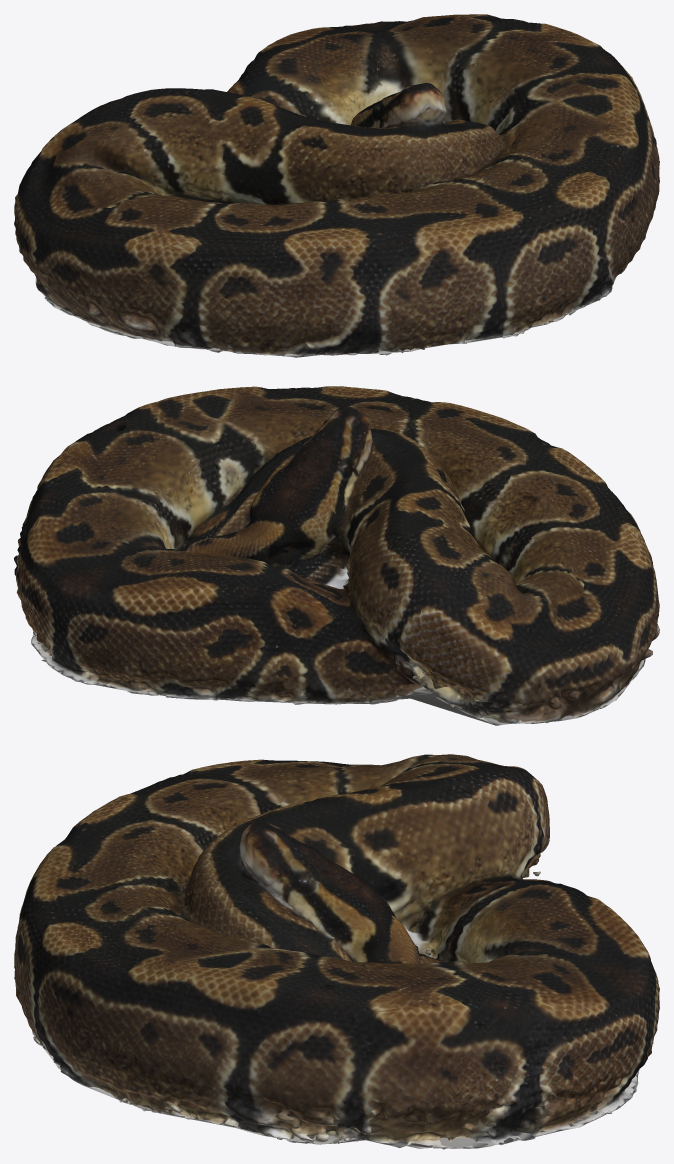
The model's file is ball_python__piton_bola.glb.
3 views of the same model, one above another, from view 1: azimuth 30°, elevation 25°; view 2: azimuth 150°, elevation 25°; view 3: azimuth 270°, elevation 25° (orthographic). The views are drawn at different scales.
Parts seen in each view (by area): view 1: pitonbolasinhole_0; view 2: pitonbolasinhole_0; view 3: pitonbolasinhole_0.
Part boxes in pixels (box(x1,y1,x2,y2)): pitonbolasinhole_0: box(14, 14, 659, 357); pitonbolasinhole_0: box(14, 386, 659, 725); pitonbolasinhole_0: box(14, 754, 659, 1149).
Bounding box in the file's own units: 0.2489 × 0.0746 × 0.2098.
Materials: 1 (1 with a texture image).
